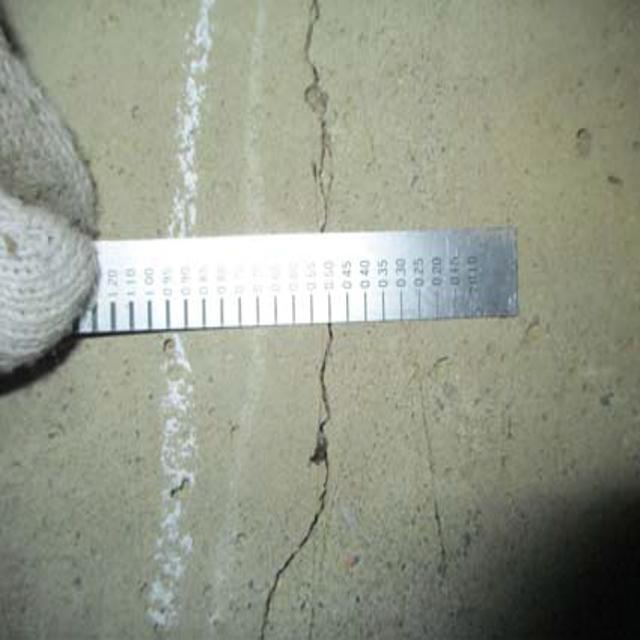crack: (257, 333, 369, 637), (287, 13, 346, 234)
